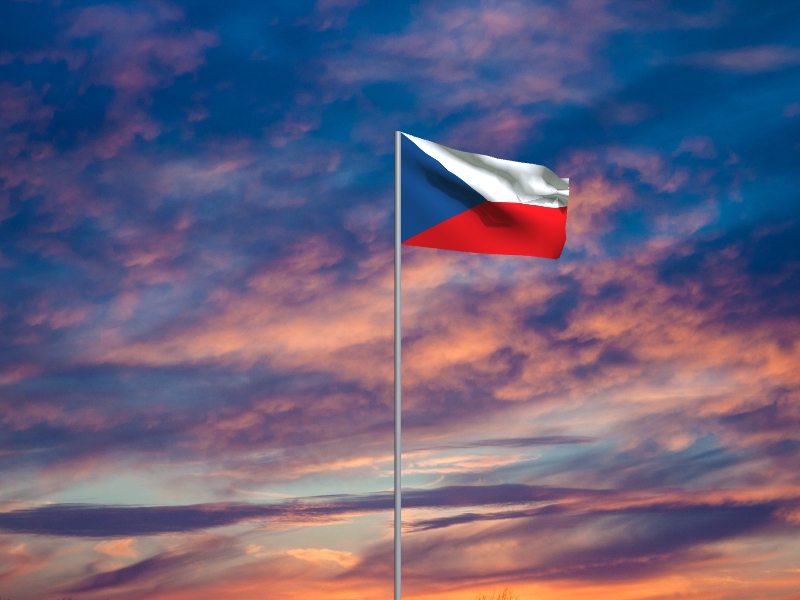cz: (401, 133, 571, 262)
